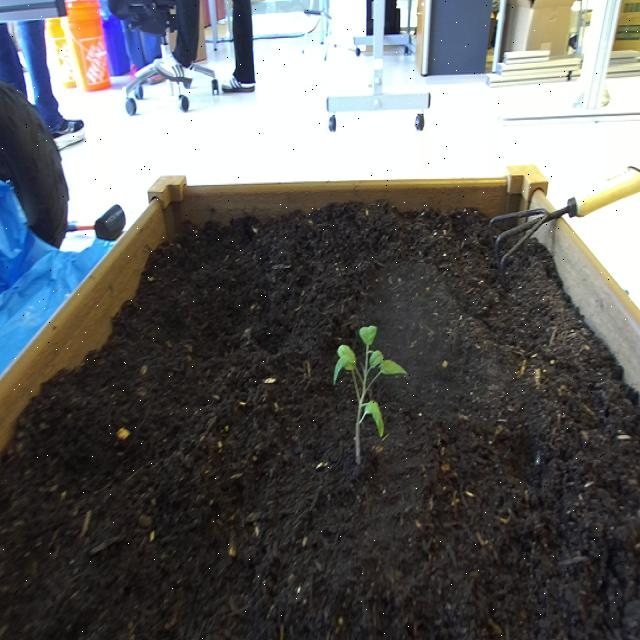Healthy: (333, 313, 407, 472)
